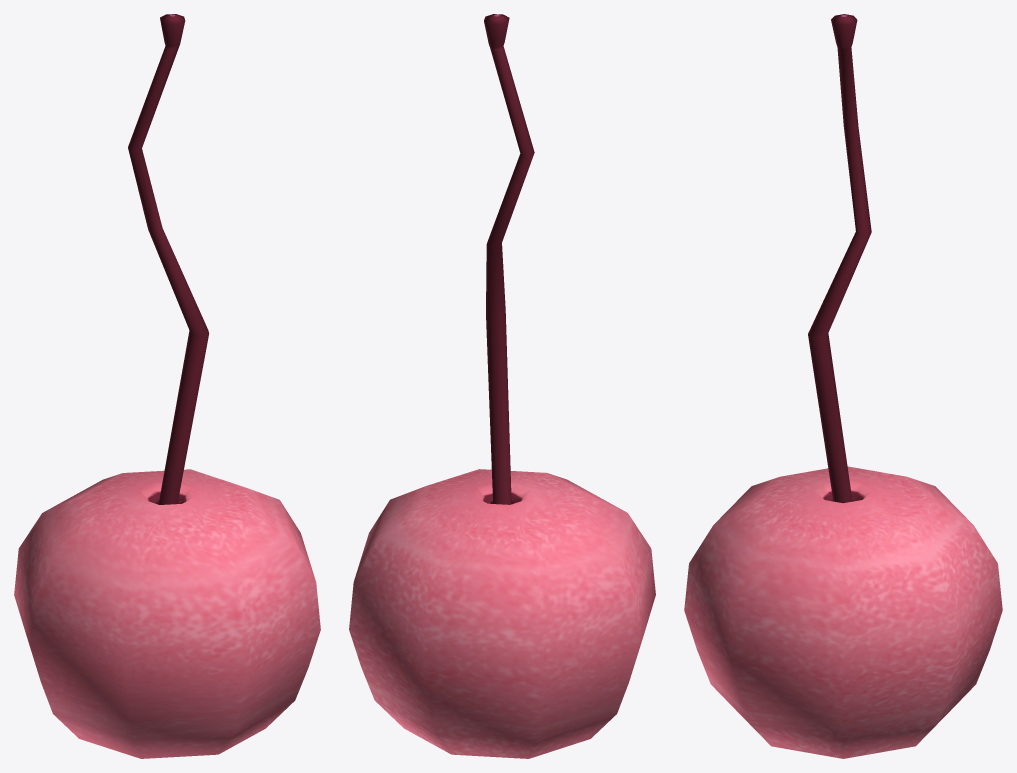
The model's file is Cherry.fbx.
The picture shows the model from 3 angles, left to right: view 1: azimuth 30°, elevation 25°; view 2: azimuth 150°, elevation 25°; view 3: azimuth 270°, elevation 25°; orthographic projection.
Parts seen in each view (by area): view 1: pSphere1; view 2: pSphere1; view 3: pSphere1.
Boxes of the visible parts, box(x1,y1,x2,y2) form: pSphere1: box(14, 14, 320, 758); pSphere1: box(349, 14, 655, 758); pSphere1: box(684, 14, 1002, 758).
Size of the model in its own units: 5.5 by 13.68 by 5.5.
Materials: 1 (1 with a texture image).
